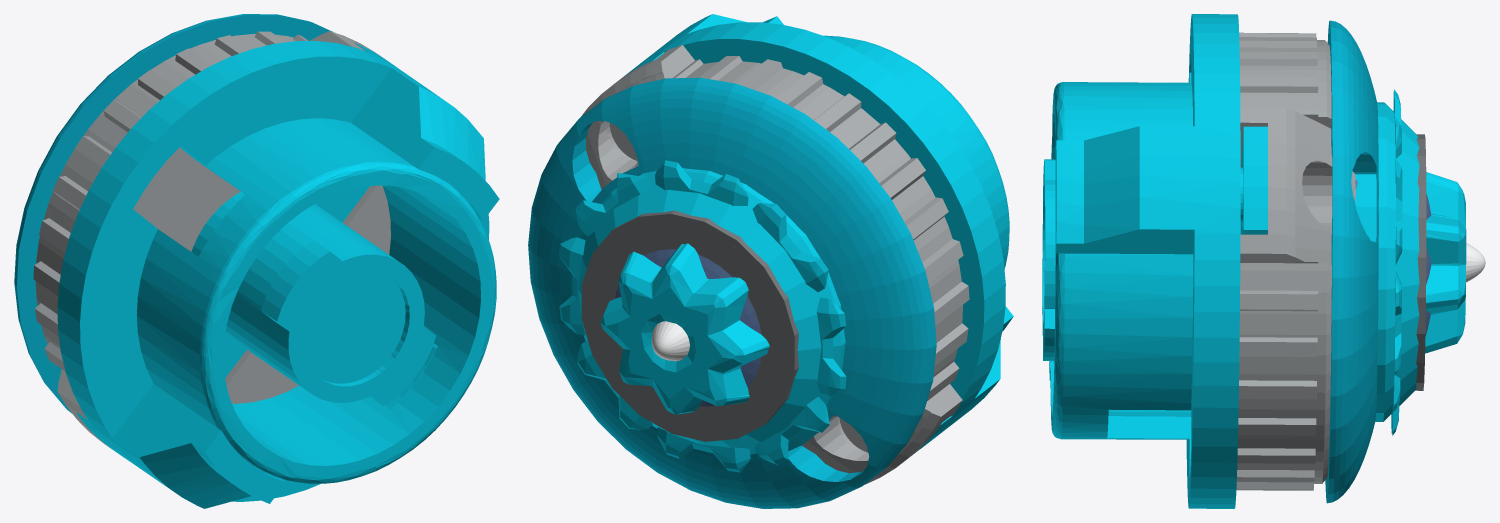
File: FA Bit.glb
3 views of the same model, side by side, from view 1: azimuth 30°, elevation 25°; view 2: azimuth 150°, elevation 25°; view 3: azimuth 270°, elevation 25° (orthographic). The views are drawn at different scales.
Parts seen in each view (by area): view 1: Bit; view 2: Bit; view 3: Bit.
Part boxes in pixels (box(x1,y1,x2,y2)): Bit: box(14, 14, 499, 508); Bit: box(528, 14, 1013, 508); Bit: box(1042, 14, 1485, 508).
Size of the model in its own units: 0.2702 by 0.2702 by 0.2418.
